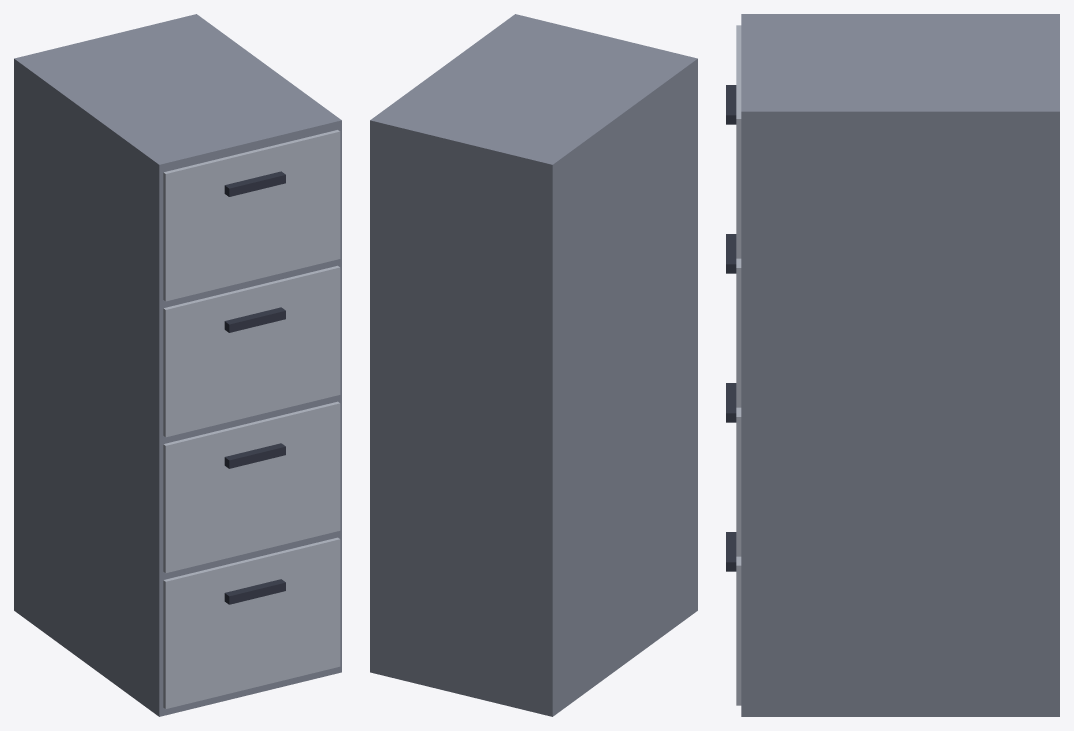
3 renders of one model, left to right at view 1: azimuth 30°, elevation 25°; view 2: azimuth 150°, elevation 25°; view 3: azimuth 270°, elevation 25°, orthographic. The views are drawn at different scales.
Visible parts, largest first — view 1: body, drawer_3, drawer_2, drawer_1, drawer_4, handle_2, handle_3, handle_4, handle_1; view 2: body; view 3: body, drawer_4, drawer_1, drawer_2, drawer_3.
Part boxes in pixels (<box>): body: <box>14,14,341,716</box>; drawer_3: <box>163,265,340,437</box>; drawer_2: <box>163,401,340,572</box>; drawer_1: <box>163,537,340,708</box>; drawer_4: <box>163,130,340,301</box>; handle_2: <box>224,443,285,468</box>; handle_3: <box>224,307,285,332</box>; handle_4: <box>224,171,285,196</box>; handle_1: <box>224,579,285,604</box>; body: <box>370,14,697,716</box>; body: <box>741,14,1059,716</box>; drawer_4: <box>736,25,741,258</box>; drawer_1: <box>736,556,741,705</box>; drawer_2: <box>736,407,741,556</box>; drawer_3: <box>736,258,741,407</box>.
Bounding box in the file's own units: 0.45 × 1.3 × 0.65.
